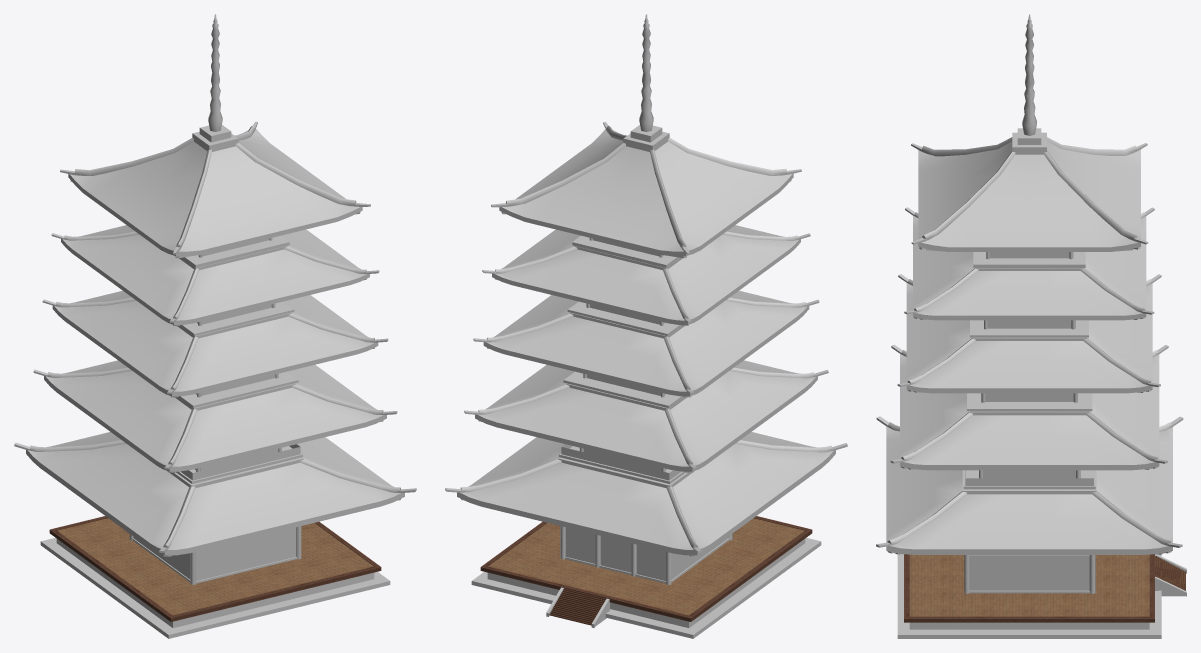
Rendered from CLX_ta_01.FBX.
3 renders of one model, left to right at view 1: azimuth 30°, elevation 25°; view 2: azimuth 150°, elevation 25°; view 3: azimuth 270°, elevation 25°, orthographic. The views are drawn at different scales.
Parts seen in each view (by area): view 1: CLX_ta_01; view 2: CLX_ta_01; view 3: CLX_ta_01.
Part boxes in pixels (<box>): CLX_ta_01: <box>14,14,416,638</box>; CLX_ta_01: <box>445,14,847,638</box>; CLX_ta_01: <box>876,14,1186,638</box>.
Size of the model in its own units: 40.52 by 83.04 by 41.01.
